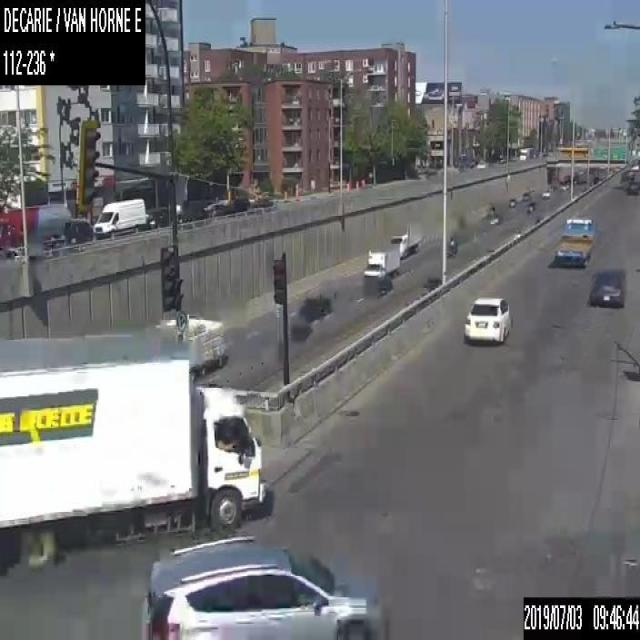bus: (556, 146, 588, 158)
construction: (346, 180, 350, 191), (360, 177, 364, 188), (295, 187, 298, 200), (284, 189, 287, 200), (355, 179, 358, 189)
vehicle: (0, 316, 267, 570), (141, 532, 386, 639), (155, 316, 226, 374), (554, 212, 596, 267), (464, 295, 510, 344), (93, 197, 145, 238), (40, 218, 91, 249), (590, 264, 626, 307), (362, 245, 400, 282), (390, 220, 421, 257), (137, 205, 168, 229), (421, 274, 441, 294), (445, 232, 458, 255), (483, 209, 500, 225), (525, 200, 536, 213), (540, 189, 550, 198), (508, 197, 516, 207), (522, 191, 530, 200)
